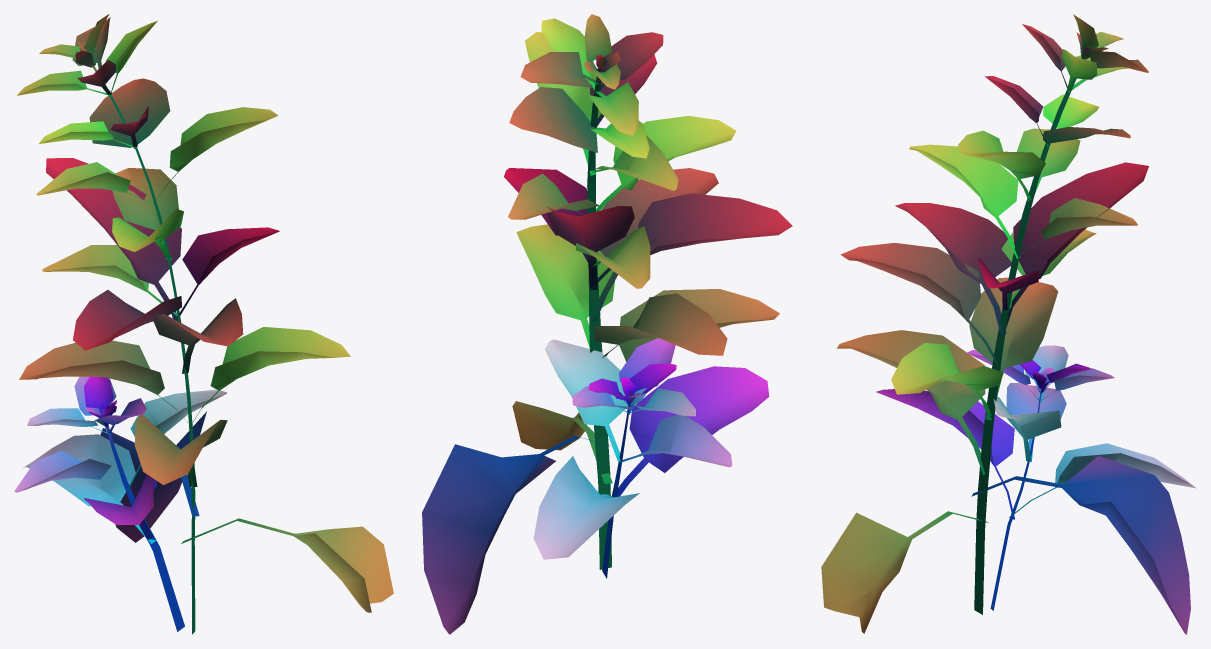
File: Lemon_Balm_umslacdia_Mid_umslacdia_VarF_LOD2.fbx
3 views of the same model, side by side, from view 1: azimuth 30°, elevation 25°; view 2: azimuth 150°, elevation 25°; view 3: azimuth 270°, elevation 25° (orthographic). The views are drawn at different scales.
Parts seen in each view (by area): view 1: _q5xb_VarF_LOD4; view 2: _q5xb_VarF_LOD4; view 3: _q5xb_VarF_LOD4.
Part boxes in pixels (bbox=[...]): _q5xb_VarF_LOD4: bbox=[14, 14, 393, 634]; _q5xb_VarF_LOD4: bbox=[422, 14, 792, 634]; _q5xb_VarF_LOD4: bbox=[821, 14, 1195, 634].
Size of the model in its own units: 36.24 by 70.25 by 40.98.
